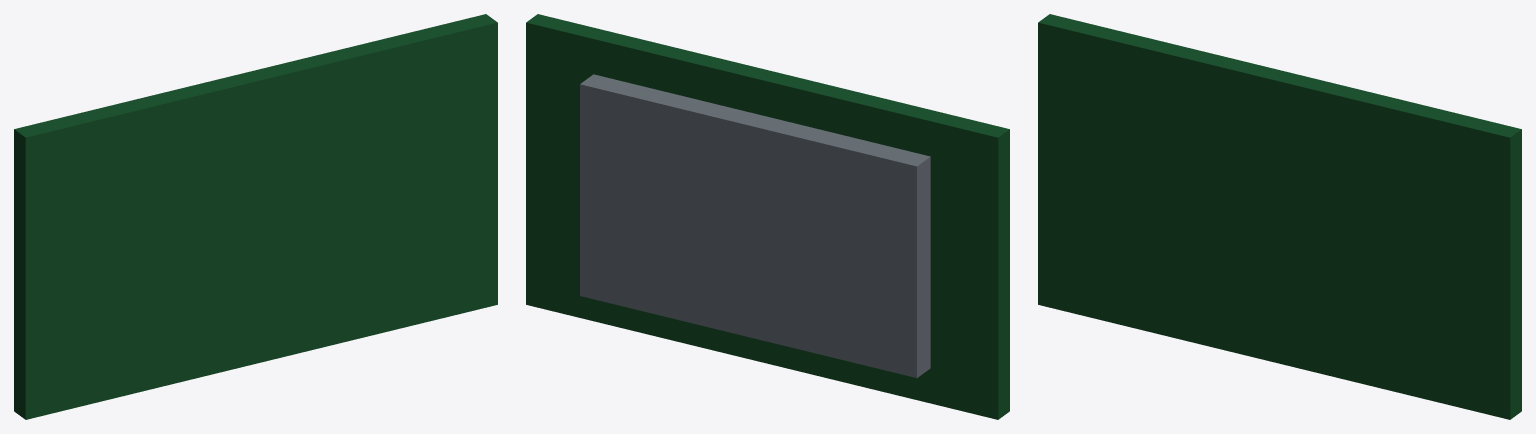
File: L32_M2_WIFI_1.fbx
3 renders of one model, left to right at view 1: azimuth 30°, elevation 25°; view 2: azimuth 150°, elevation 25°; view 3: azimuth 330°, elevation 25°, orthographic.
Visible parts, largest first — view 1: M2_WIFI_1_Green; view 2: M2_WIFI_1_Steel, M2_WIFI_1_Green; view 3: M2_WIFI_1_Green.
Part boxes in pixels (box(x1,y1,x2,y2)): M2_WIFI_1_Green: box(14, 14, 497, 419); M2_WIFI_1_Steel: box(580, 74, 930, 377); M2_WIFI_1_Green: box(526, 14, 1009, 419); M2_WIFI_1_Green: box(1038, 14, 1521, 419).
Size of the model in its own units: 2.8 by 1.6 by 0.26.
